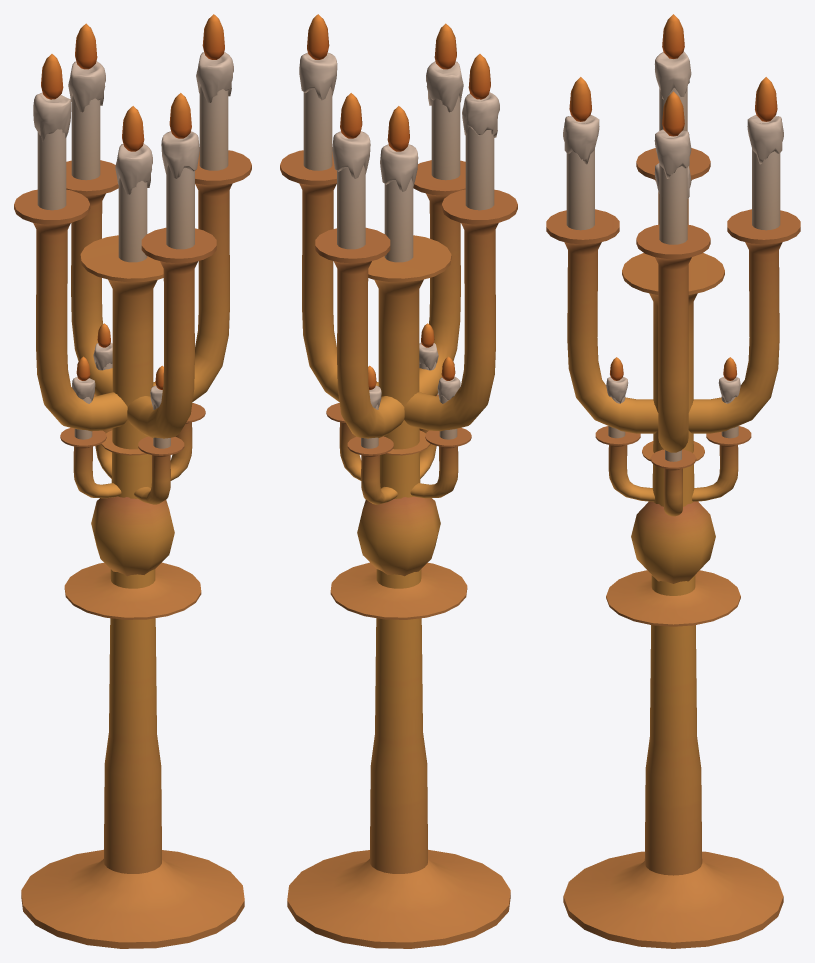
File: candleholders_floorandtable.fbx
The picture shows the model from 3 angles, left to right: view 1: azimuth 30°, elevation 25°; view 2: azimuth 150°, elevation 25°; view 3: azimuth 270°, elevation 25°; orthographic projection. The views are drawn at different scales.
Visible parts, largest first — view 1: candleholder_floor, candleholder_table; view 2: candleholder_floor, candleholder_table; view 3: candleholder_floor, candleholder_table.
Part boxes in pixels (box(x1,y1,x2,y2)): candleholder_floor: box(14, 14, 251, 948); candleholder_table: box(60, 323, 205, 619); candleholder_floor: box(280, 14, 517, 948); candleholder_table: box(326, 323, 471, 619); candleholder_floor: box(546, 14, 800, 948); candleholder_table: box(595, 357, 751, 626).
Bounding box in the file's own units: 0.4015 × 1.47 × 0.3984.
